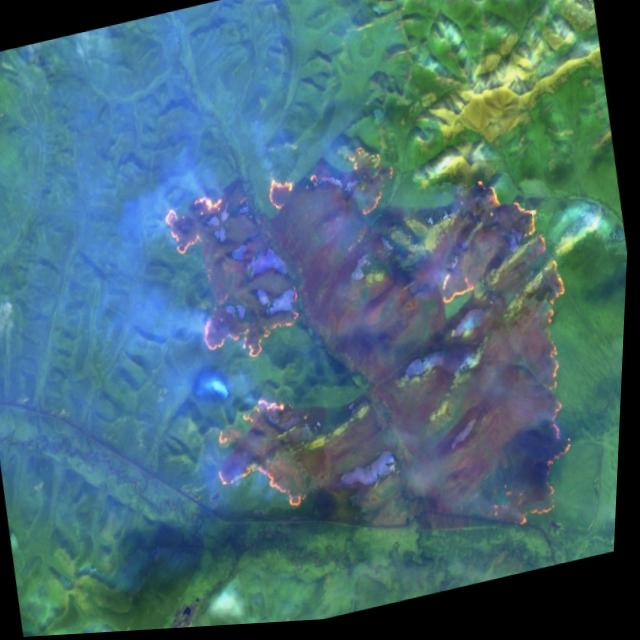fire: (132, 94, 636, 615)
